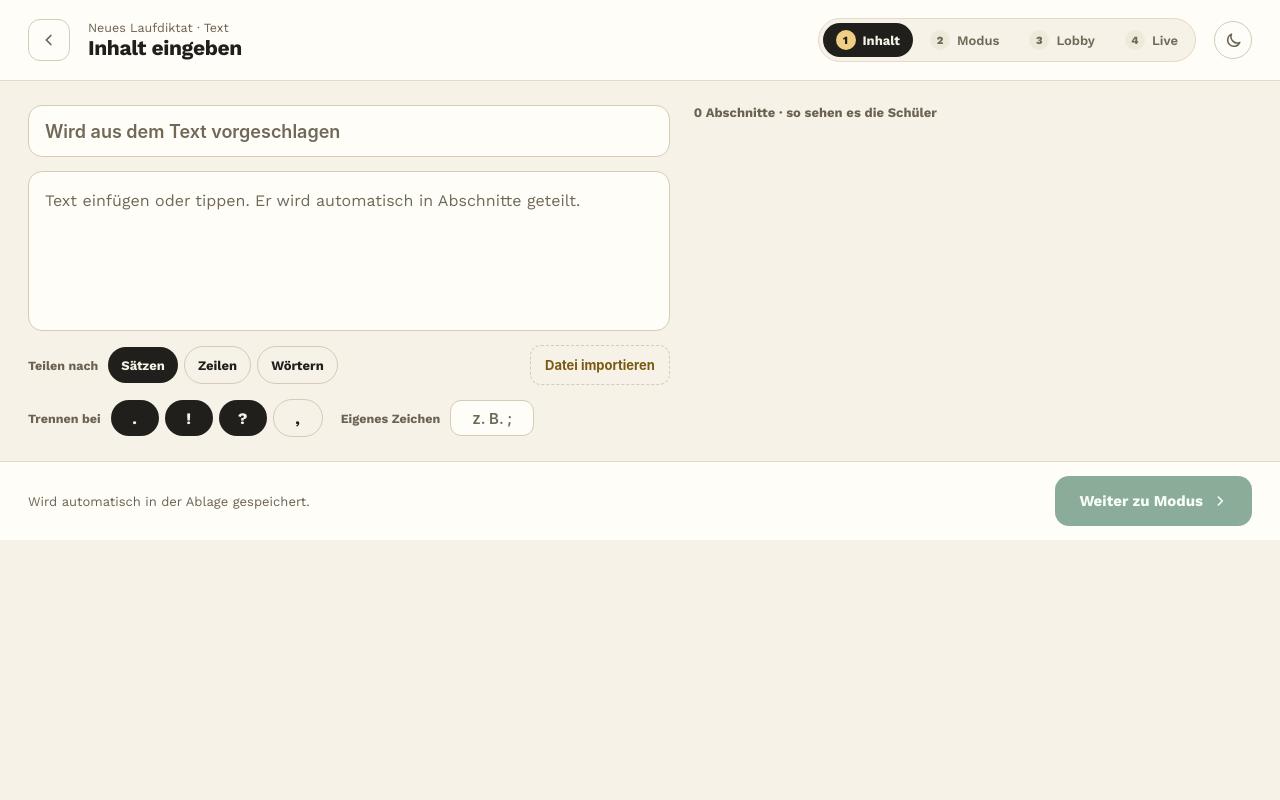
Raumstart mit Klassenwahl › lässt ohne Klassenwahl keinen Stempel in den Raum
Later steps or results of the test are not shown.
Step 1. Type "Der Schulweg ist kurz." into the text box labelled "Text" → {"x": 349, "y": 251}, box [28, 171, 670, 331]
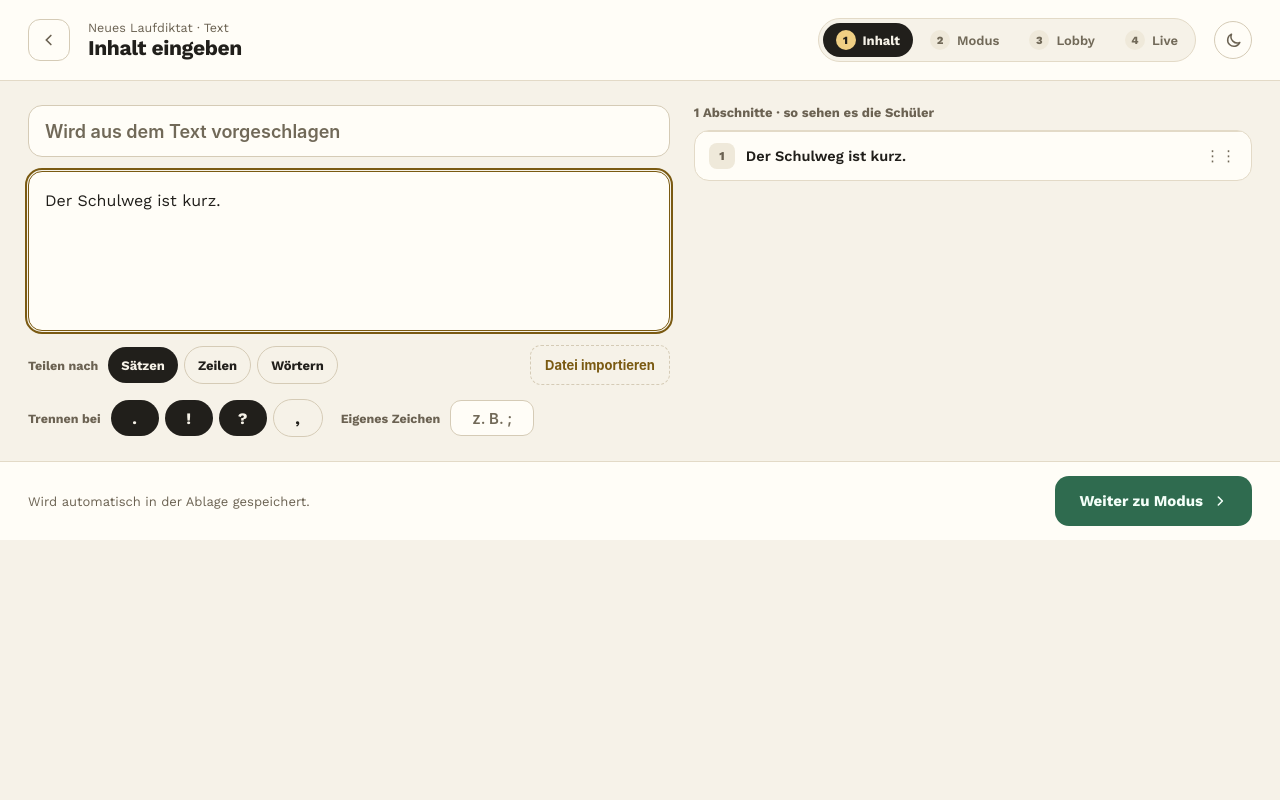
Step 2. Click the button "Weiter zu Modus" → {"x": 1154, "y": 501}, box [1056, 476, 1252, 526]
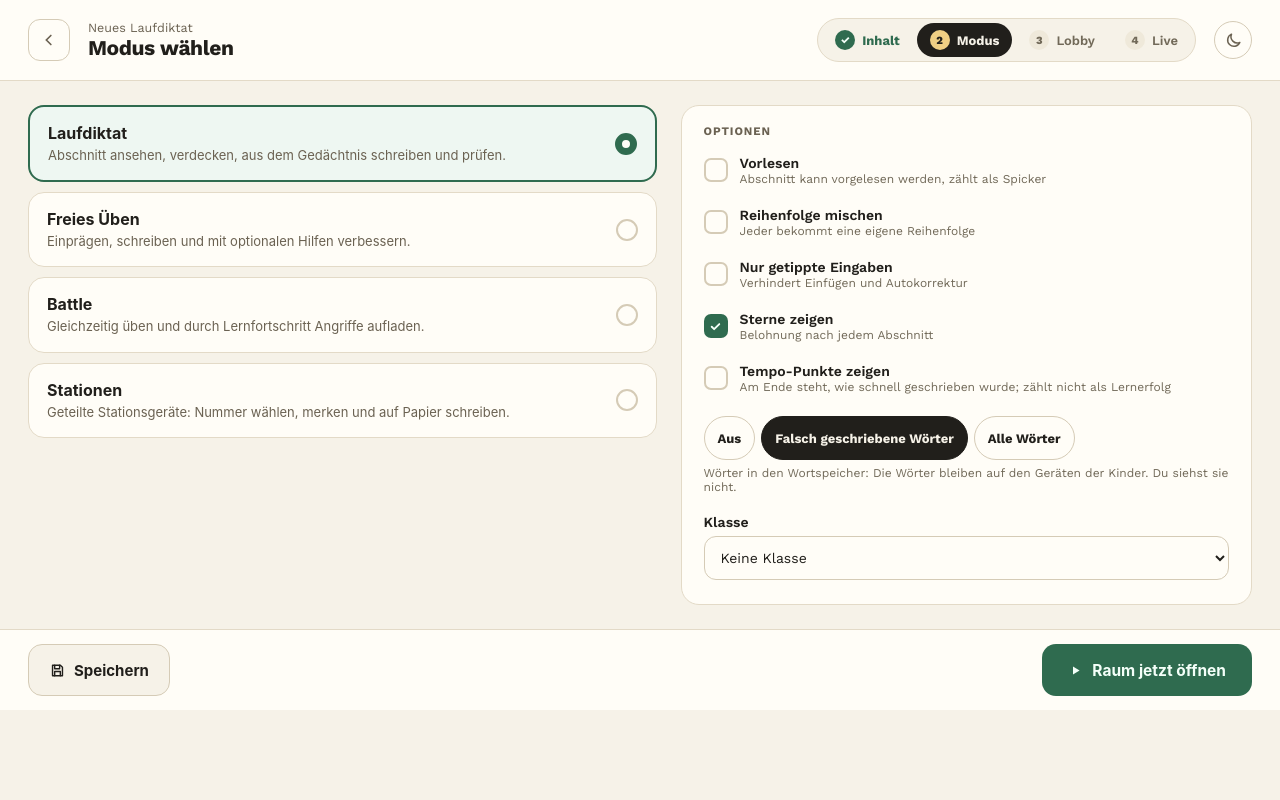
expect the dropdown labelled "Klasse" is shown: met, box [704, 536, 1229, 580]
